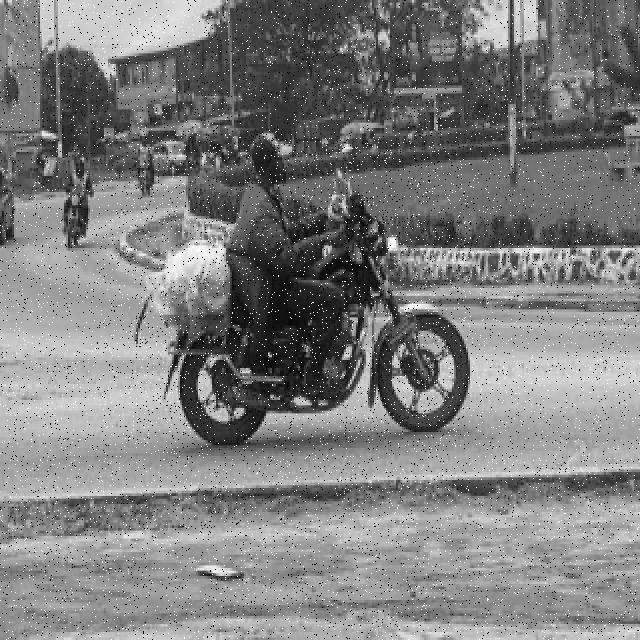Motorbike: (132, 133, 471, 447)
